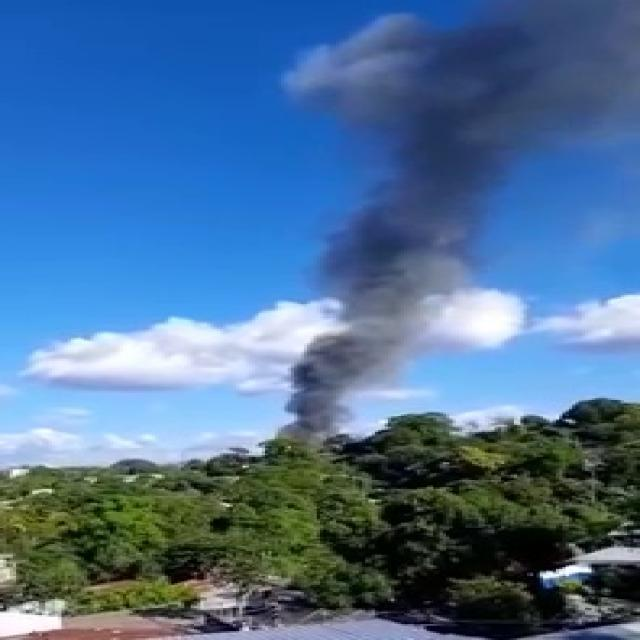Smoke: (208, 4, 623, 429)
